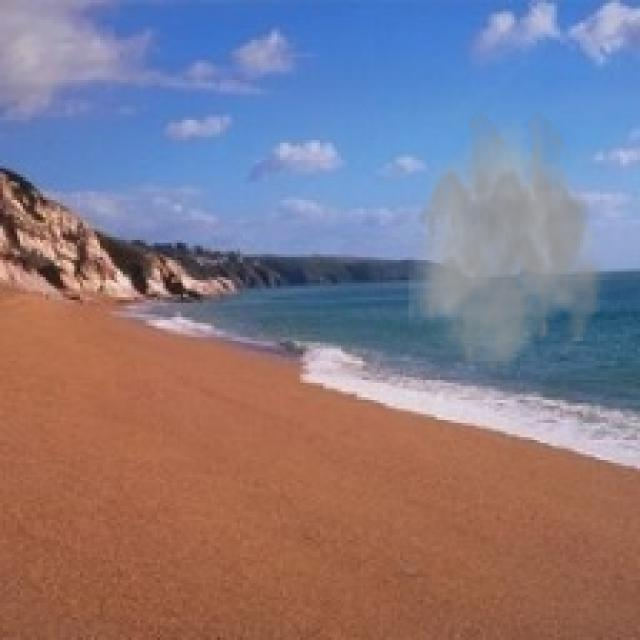Smoke: (408, 106, 618, 380)
